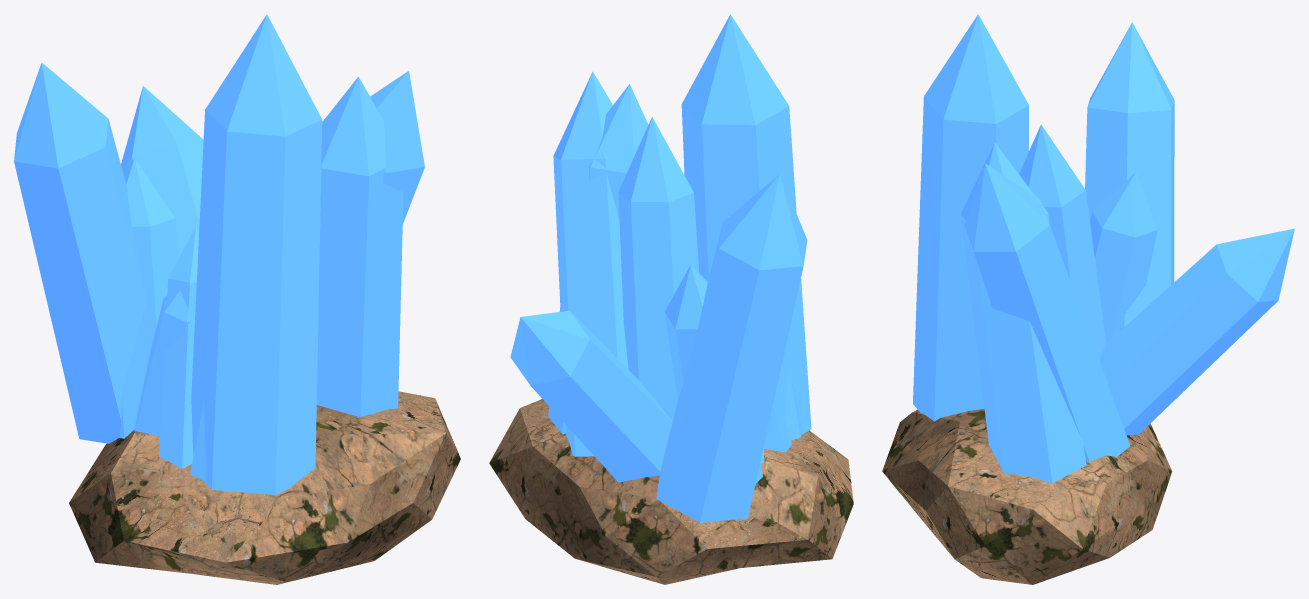
The model's file is Crystal_Blue_L.fbx.
The picture shows the model from 3 angles, left to right: view 1: azimuth 30°, elevation 25°; view 2: azimuth 150°, elevation 25°; view 3: azimuth 270°, elevation 25°; orthographic projection. The views are drawn at different scales.
Visible parts, largest first — view 1: Crystal_Blue_L; view 2: Crystal_Blue_L; view 3: Crystal_Blue_L.
Boxes of the visible parts, x1,y1,x2,y2 form: Crystal_Blue_L: (14, 14, 460, 584); Crystal_Blue_L: (489, 14, 853, 584); Crystal_Blue_L: (882, 14, 1294, 584).
Size of the model in its own units: 3.57 by 5.3 by 3.83.
